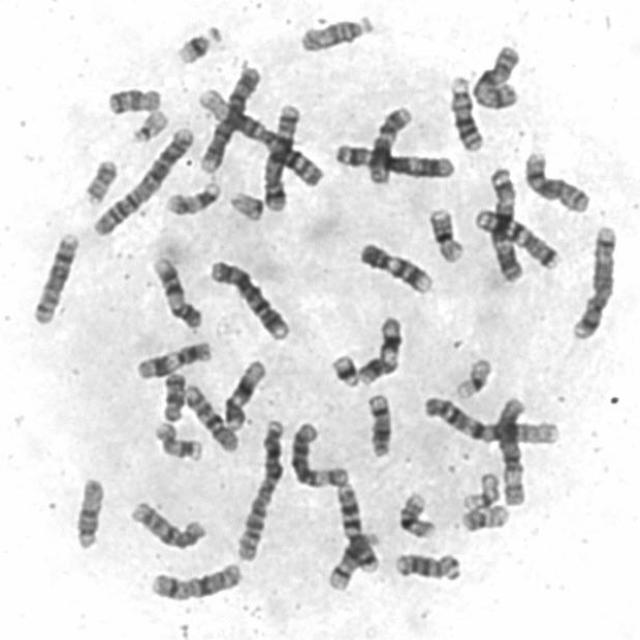A1: (193, 82, 327, 188), (418, 390, 563, 447)
A2: (87, 121, 197, 238), (230, 412, 288, 562)
A3: (329, 137, 456, 180), (483, 160, 524, 283)
B4: (194, 59, 263, 174), (204, 254, 291, 342)
B5: (567, 219, 619, 341), (259, 98, 304, 212)
C10: (124, 494, 208, 552), (178, 379, 240, 454)
C11: (353, 311, 405, 387), (130, 335, 214, 381)
C12: (363, 100, 415, 186), (219, 354, 268, 431)
C6: (285, 416, 350, 489), (492, 392, 530, 506)
C7: (470, 202, 562, 272), (331, 479, 381, 574)
C8: (26, 226, 81, 327), (519, 146, 593, 214)
C9: (354, 237, 435, 295), (146, 251, 204, 331)
D13: (444, 69, 485, 153), (389, 546, 464, 583)
D14: (322, 525, 381, 592), (362, 388, 394, 458)
D15: (295, 9, 377, 54), (69, 471, 105, 551)
E16: (423, 202, 467, 265), (393, 486, 439, 541)
E17: (161, 174, 223, 218), (149, 417, 204, 463)
E18: (101, 81, 163, 115), (157, 367, 187, 423)
F19: (449, 352, 494, 401), (457, 467, 503, 513)
F20: (78, 153, 120, 206), (455, 499, 512, 533)
G21: (170, 19, 222, 66), (326, 348, 361, 388)
G22: (126, 104, 170, 144), (224, 186, 266, 223)
X: (146, 558, 244, 604), (466, 39, 524, 111)
